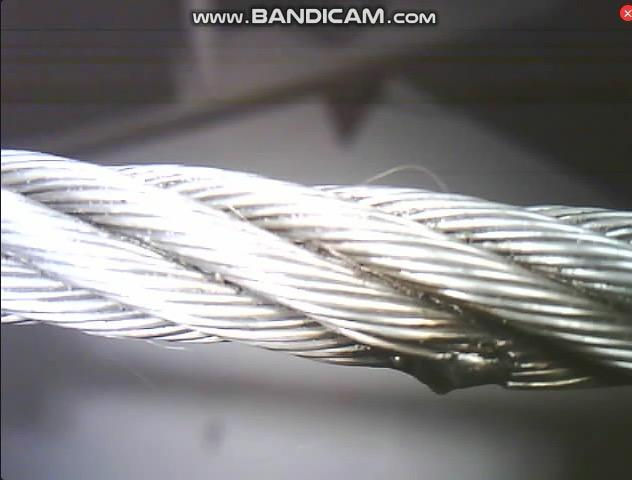thunderbolt: (394, 310, 527, 402)
